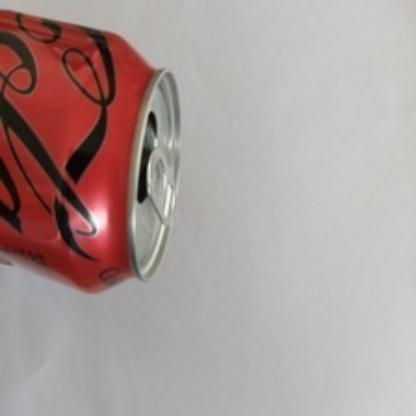Can: (0, 5, 184, 293)
